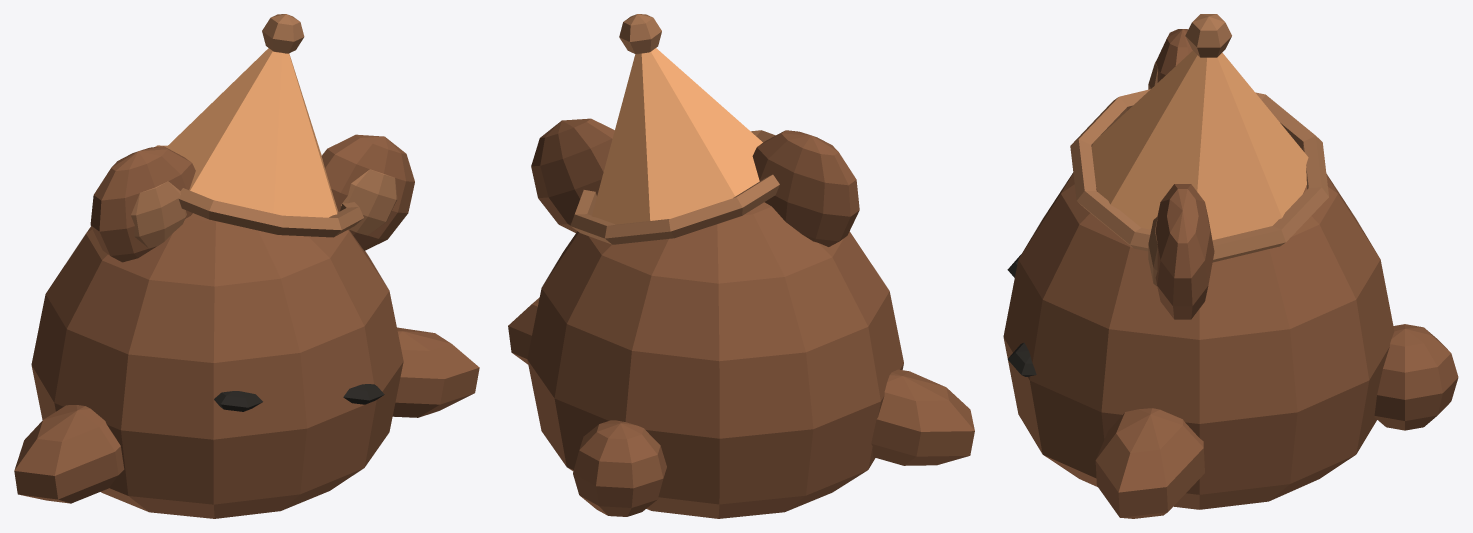
Rendered from blob-forest-2.glb.
3 views of the same model, side by side, from view 1: azimuth 30°, elevation 25°; view 2: azimuth 150°, elevation 25°; view 3: azimuth 270°, elevation 25° (orthographic). The views are drawn at different scales.
Visible parts, largest first — view 1: blob-forest-2; view 2: blob-forest-2; view 3: blob-forest-2.
Boxes of the visible parts, bbox=[...] form: blob-forest-2: bbox=[14, 14, 479, 518]; blob-forest-2: bbox=[508, 14, 974, 518]; blob-forest-2: bbox=[1003, 14, 1458, 518].
Size of the model in its own units: 0.8999 by 0.8125 by 0.7121.
